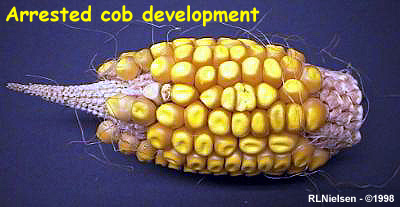corn: (5, 35, 364, 178)
